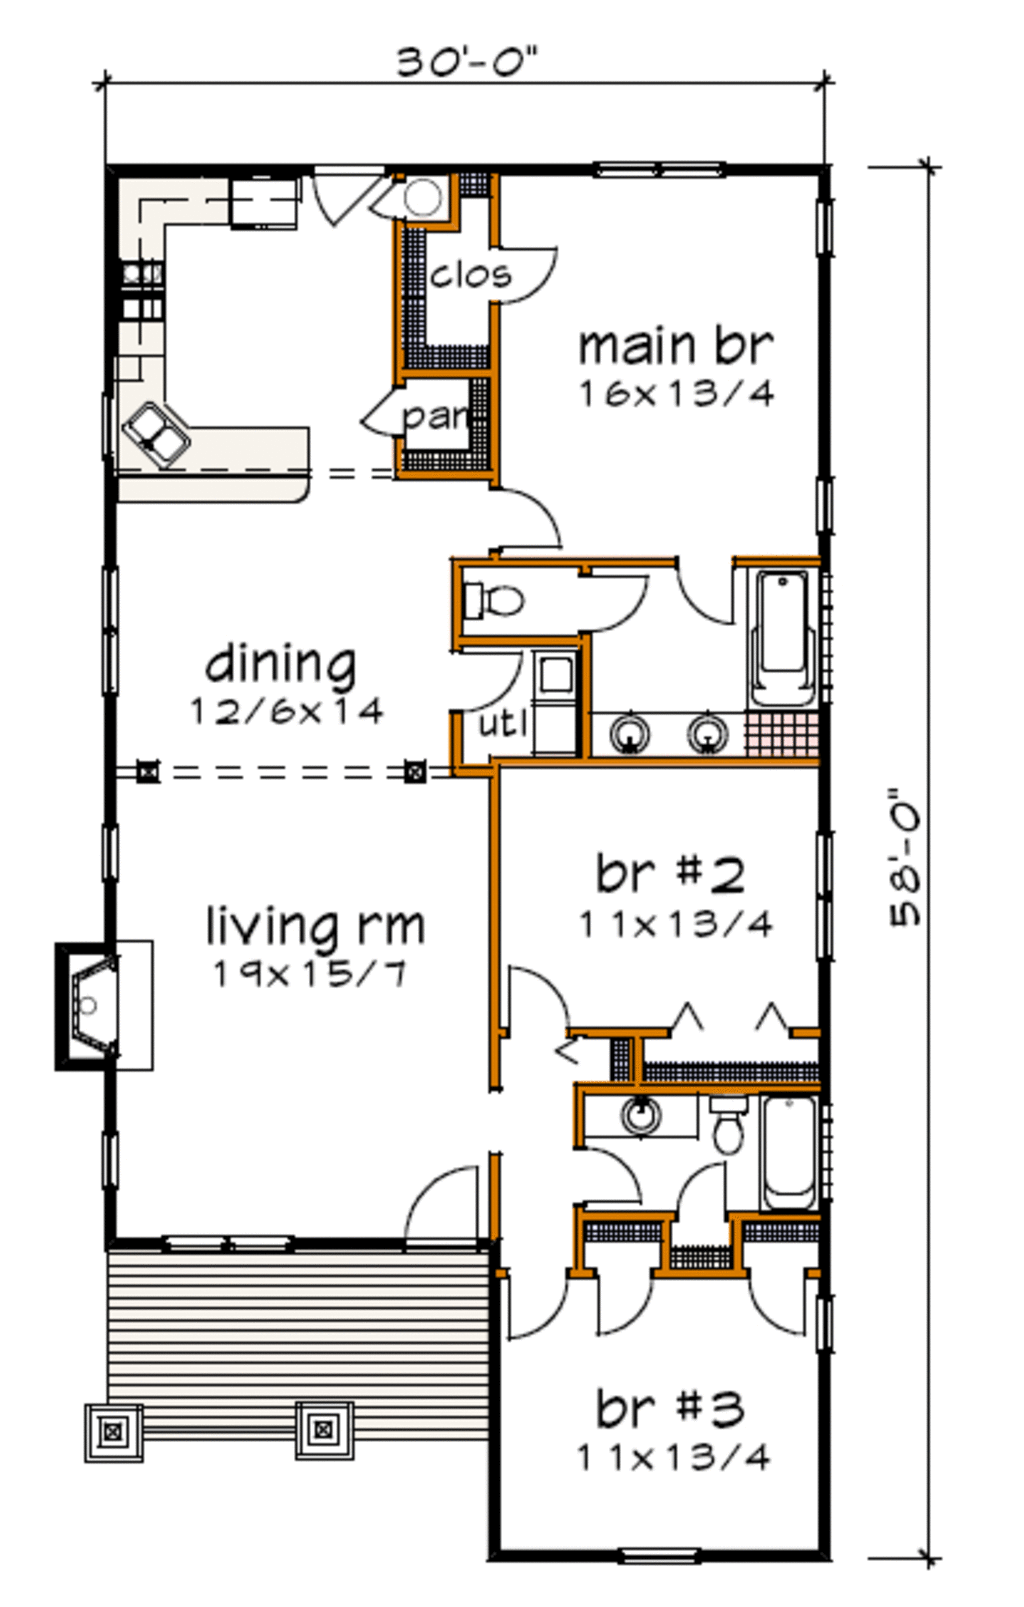door: (390, 1157, 490, 1252), (483, 233, 581, 312), (490, 957, 590, 1033), (437, 640, 534, 718), (482, 481, 576, 558), (351, 372, 429, 457), (665, 555, 744, 637), (661, 1155, 737, 1237), (498, 1261, 573, 1345), (583, 1259, 658, 1340), (578, 562, 658, 637), (739, 1261, 812, 1336), (576, 1140, 649, 1198), (305, 162, 371, 225)
large_sink: (453, 567, 537, 642), (705, 1089, 746, 1169)
small_sink: (593, 711, 742, 759), (578, 1083, 685, 1135)
tub: (751, 1090, 851, 1240), (742, 572, 820, 711)
twin_sink: (105, 369, 205, 476)
window: (576, 148, 742, 189), (807, 806, 846, 967), (153, 1216, 288, 1261), (796, 457, 861, 547), (88, 555, 124, 700), (615, 1533, 728, 1570), (810, 182, 849, 276), (100, 811, 120, 891)
